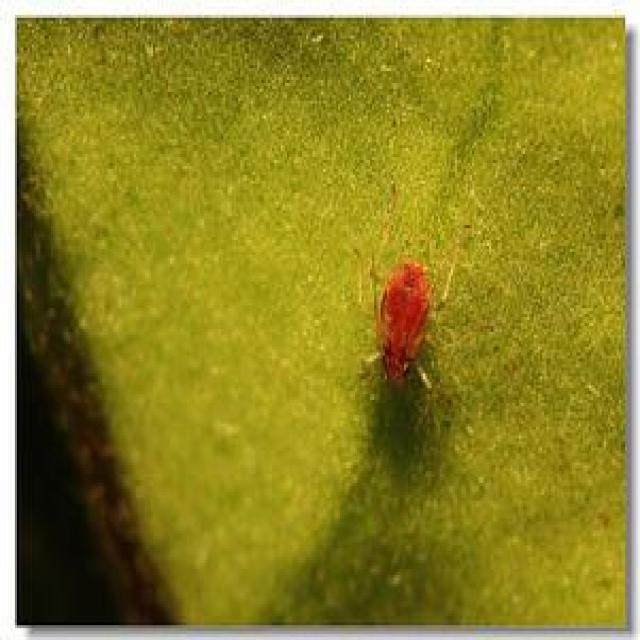aphid: (366, 206, 453, 411)
